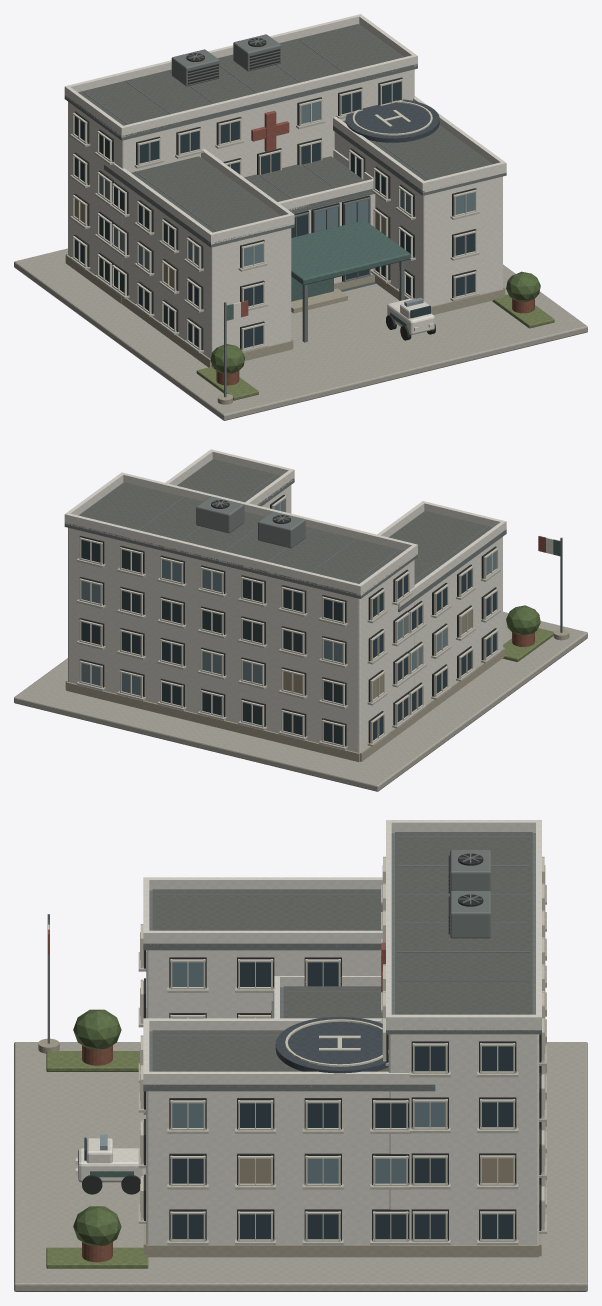
Rendered from CIV_HEALTH_3x3_001.glb.
The picture shows the model from 3 angles, top to bottom: view 1: azimuth 30°, elevation 25°; view 2: azimuth 150°, elevation 25°; view 3: azimuth 270°, elevation 25°; orthographic projection. The views are drawn at different scales.
Parts seen in each view (by area): view 1: CIV_HEALTH_3x3_001_Visual; view 2: CIV_HEALTH_3x3_001_Visual; view 3: CIV_HEALTH_3x3_001_Visual.
Boxes of the visible parts, x1,y1,x2,y2 form: CIV_HEALTH_3x3_001_Visual: [14, 14, 587, 420]; CIV_HEALTH_3x3_001_Visual: [14, 449, 587, 791]; CIV_HEALTH_3x3_001_Visual: [14, 820, 587, 1291].
Size of what is drawn, in the model's own units: 5.92 by 3.24 by 5.92.
22 materials, 15 textured.
